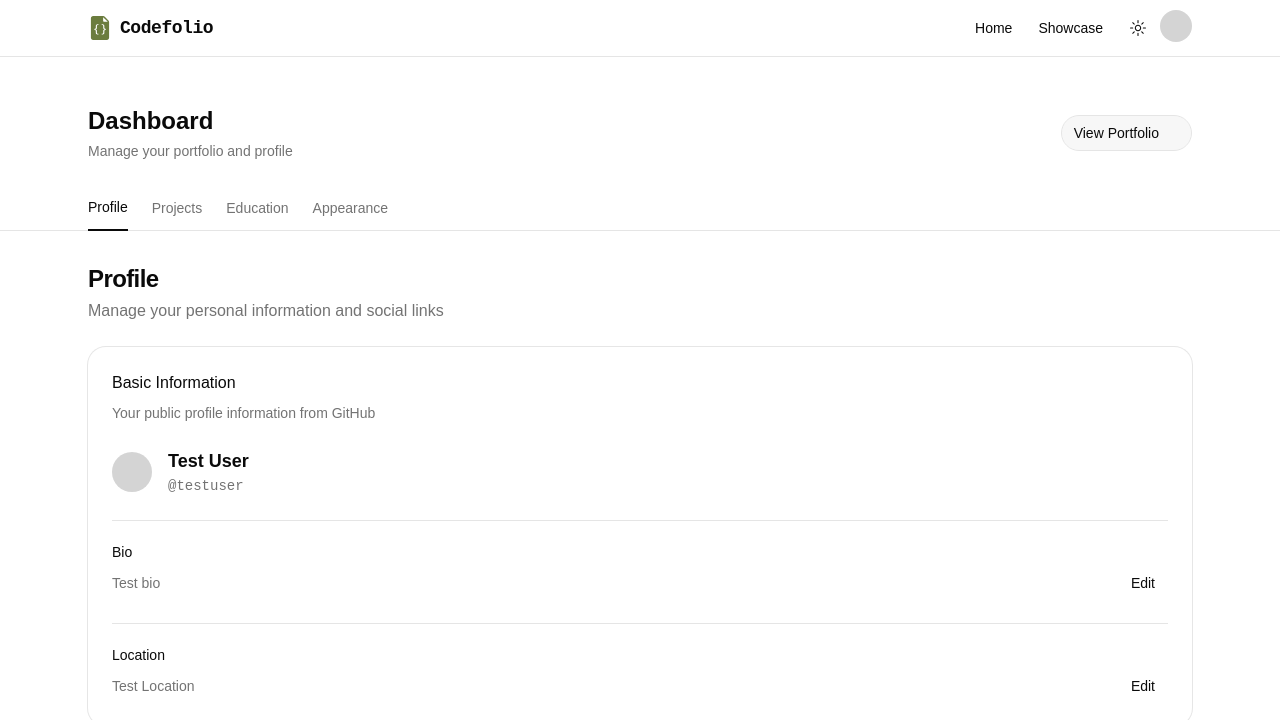
GitHub Re-Sync Flow › should successfully re-sync GitHub repositories
This screenshot has width=1280, height=720.
What coordinates should you click on to do the following:
click the button "Projects"
I would click on:
 (178, 208)
Its box is [152,185,203,231].
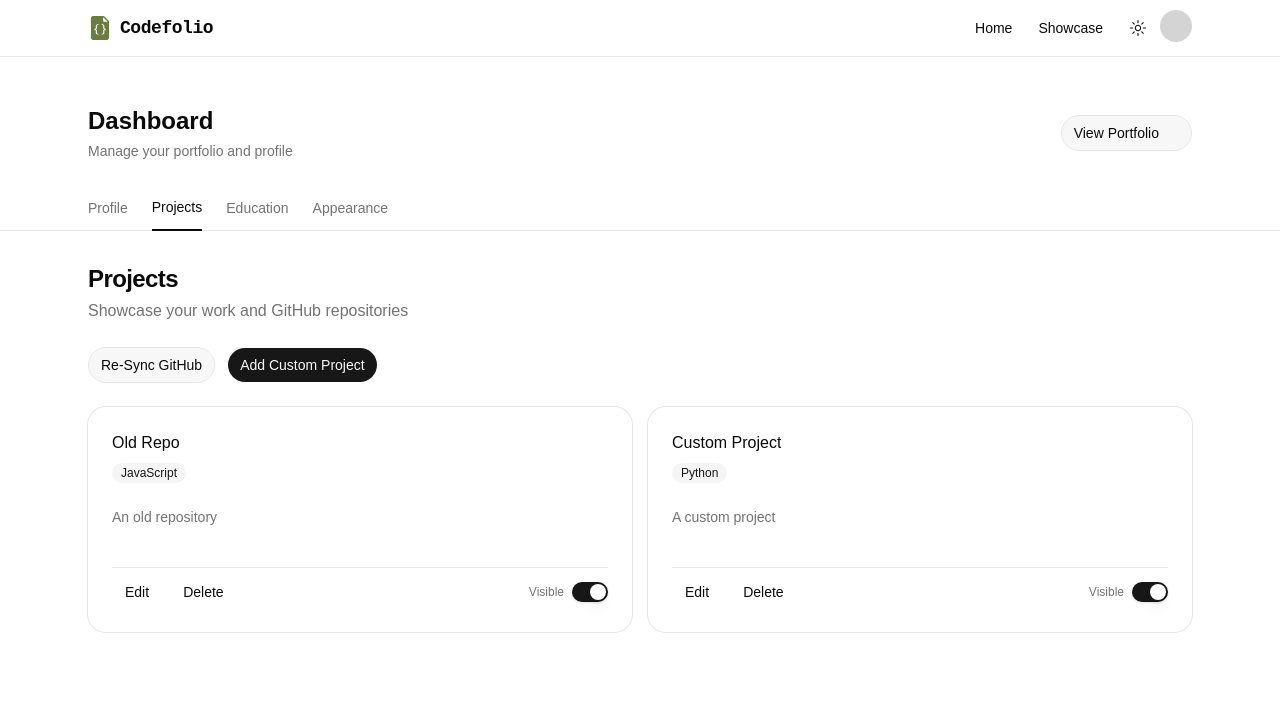
Expected: the text "New Repo" is not shown
Result: the text "Old Repo" is shown at [112,431,180,455]
Result: the button "Add Custom Project" is shown at [227,347,378,383]
// Click Re-Sync GitHub button
What coordinates should you click on to do the following:
click the button "Re-Sync GitHub"
I would click on:
 (152, 365)
Its box is [88,347,215,383].
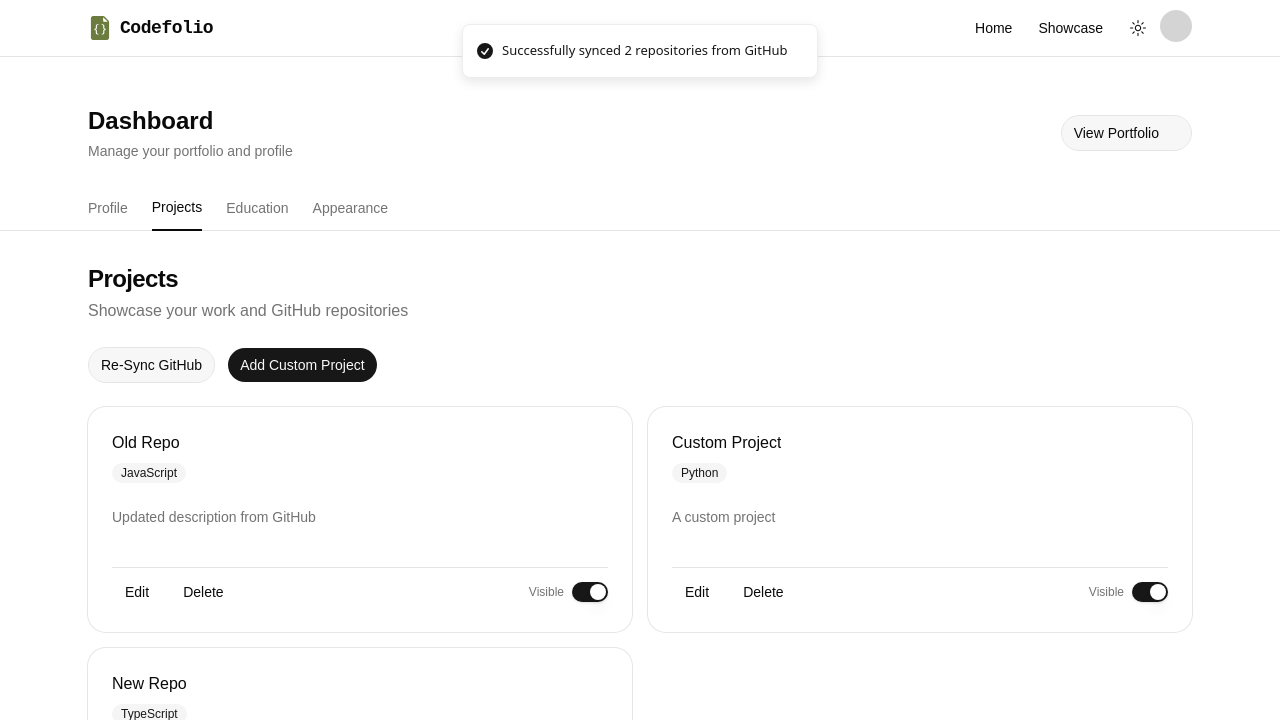
Result: the text "Old Repo" is shown at [112,431,180,455]
Result: the button "Add Custom Project" is shown at [227,347,378,383]
Result: the text "Updated description from GitHub" is shown at [112,509,316,525]
